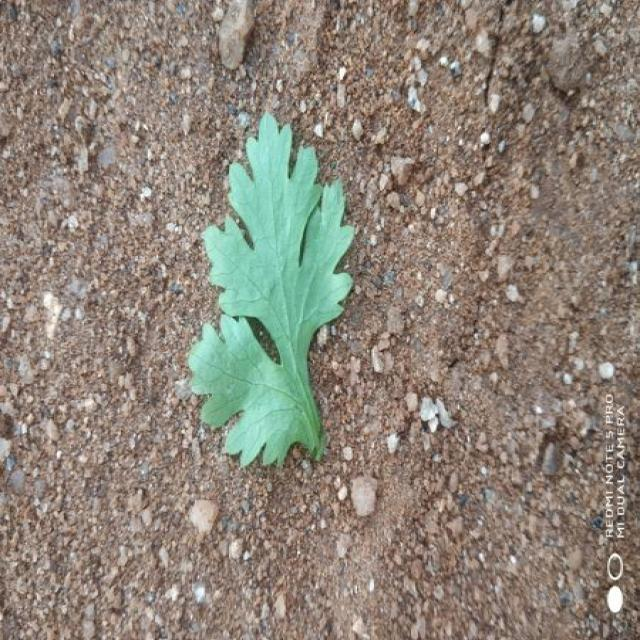coriender: (188, 114, 353, 466)
